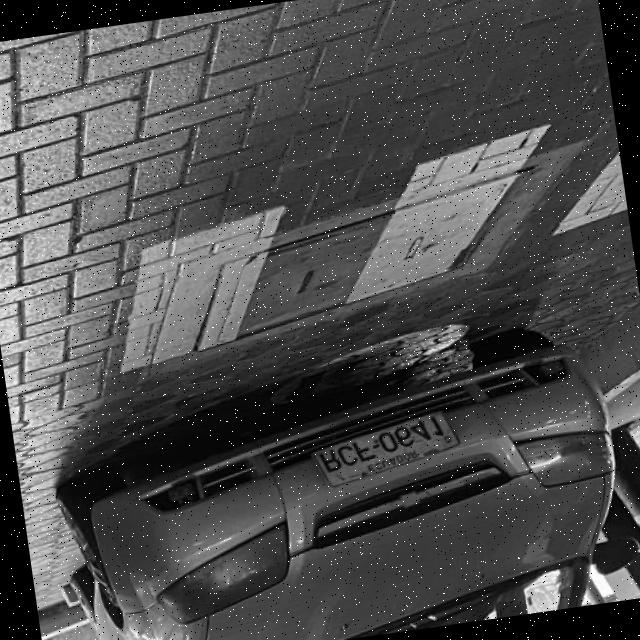Placa: (313, 414, 457, 486)
